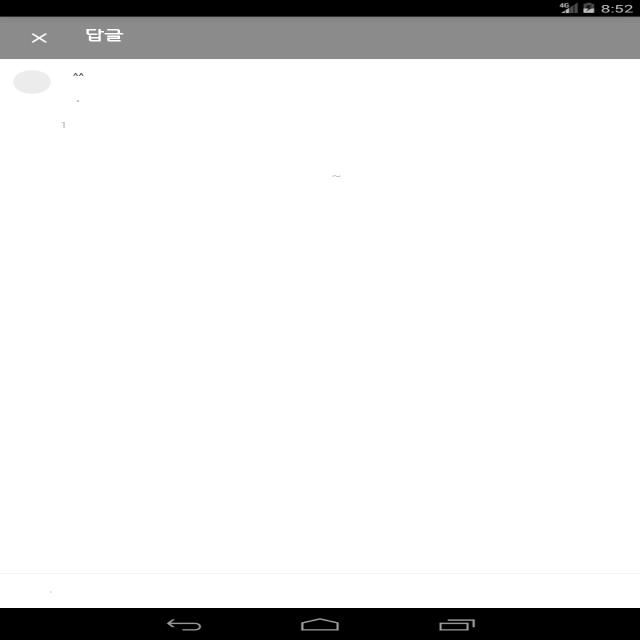ImageButton: (23, 27, 56, 50)
TextView: (84, 20, 135, 48)
